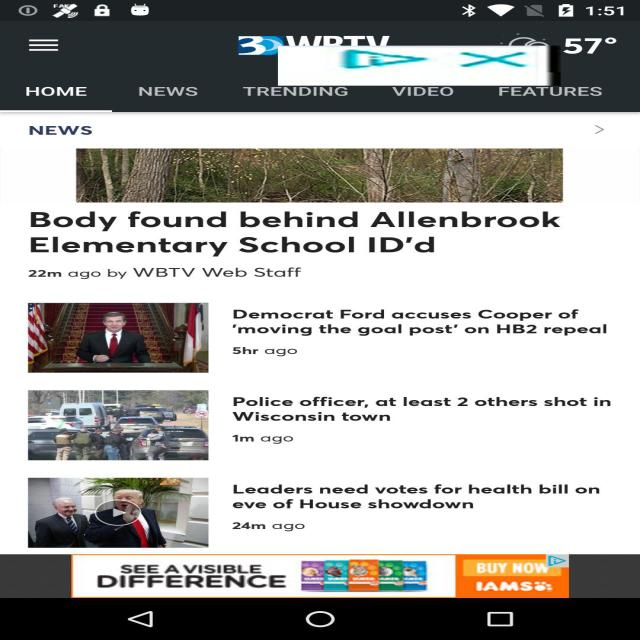sneaking: (278, 46, 561, 86)
